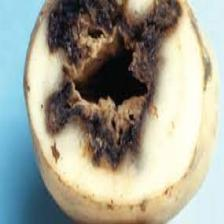Diseased-fungal potato: (20, 1, 212, 215)
